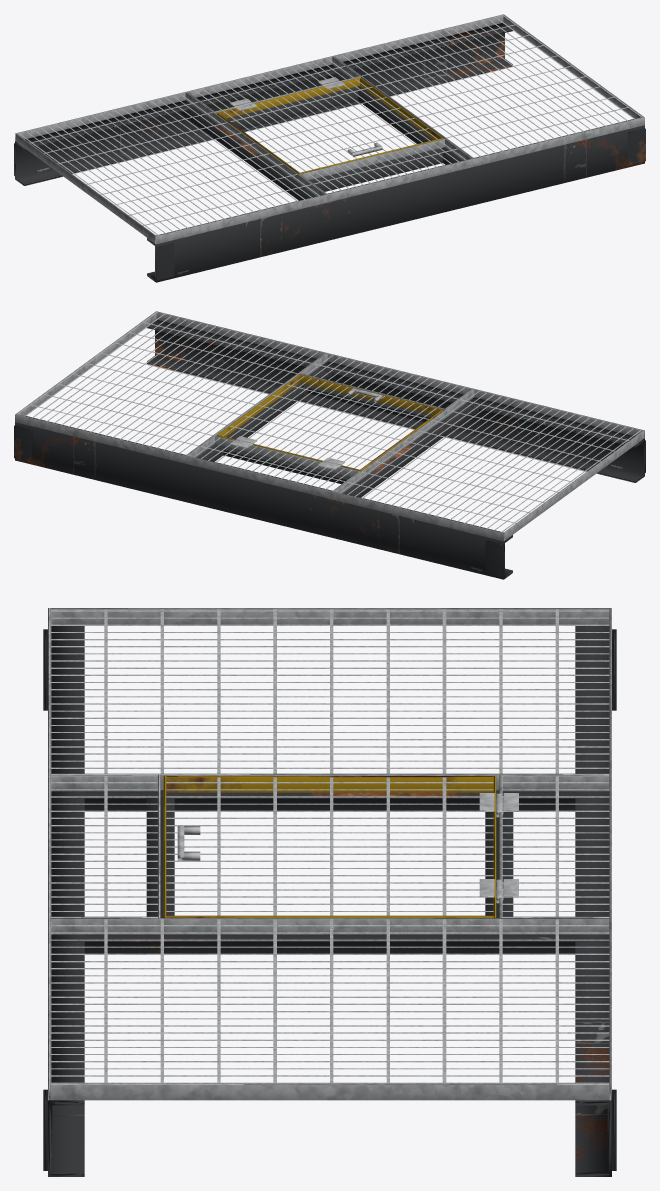
Rendered from SM_IK_Catwalk_200_Hatch_LOD2.fbx.
3 views of the same model, one above another, from view 1: azimuth 30°, elevation 25°; view 2: azimuth 150°, elevation 25°; view 3: azimuth 270°, elevation 25° (orthographic). The views are drawn at different scales.
Parts seen in each view (by area): view 1: SM_IK_Catwalk_200_Hatch_LOD2; view 2: SM_IK_Catwalk_200_Hatch_LOD2; view 3: SM_IK_Catwalk_200_Hatch_LOD2.
Part boxes in pixels (box(x1,y1,x2,y2)): SM_IK_Catwalk_200_Hatch_LOD2: box(14, 14, 645, 282); SM_IK_Catwalk_200_Hatch_LOD2: box(14, 311, 645, 579); SM_IK_Catwalk_200_Hatch_LOD2: box(43, 608, 616, 1176).
Size of the model in its own units: 200 by 102 by 19.2.
